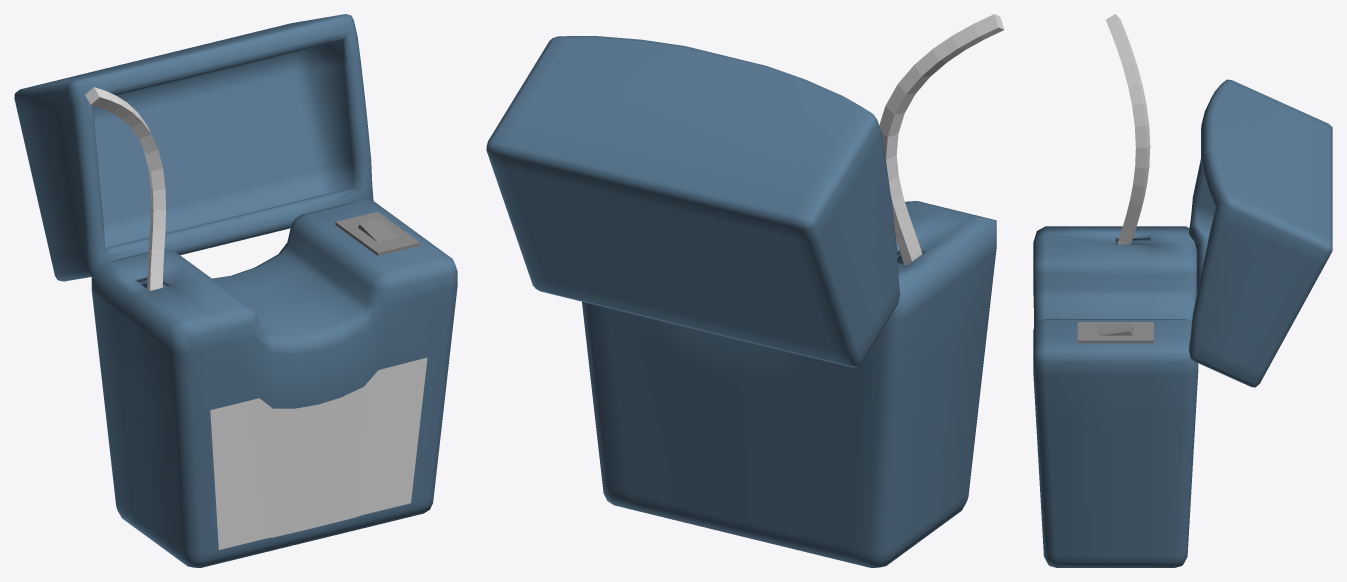
File: floss.fbx
3 renders of one model, left to right at view 1: azimuth 30°, elevation 25°; view 2: azimuth 150°, elevation 25°; view 3: azimuth 270°, elevation 25°, orthographic. The views are drawn at different scales.
Visible parts, largest first — view 1: Floss; view 2: Floss; view 3: Floss.
Part boxes in pixels (x1,y1,x2,y2): Floss: (14, 14, 457, 567); Floss: (486, 14, 1004, 567); Floss: (1033, 14, 1332, 567).
Bounding box in the file's own units: 51.94 × 71.33 × 45.51.
